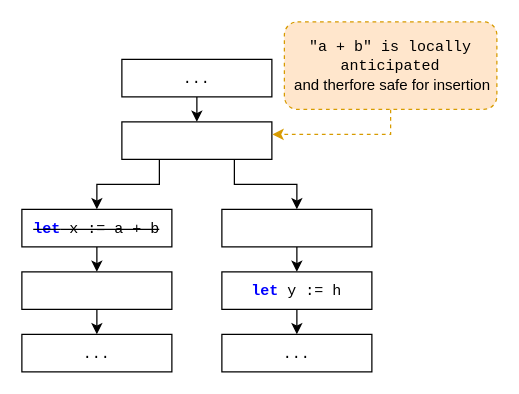
This 519x394 diagram has some shape labels left out. The shapes that lost their labels are listed below. From the top down, each one's centre as x and y in pixels, then its label:
pixel 196 140: let h := a + b
pixel 296 227: let y := a + b
pixel 96 290: let x := h
